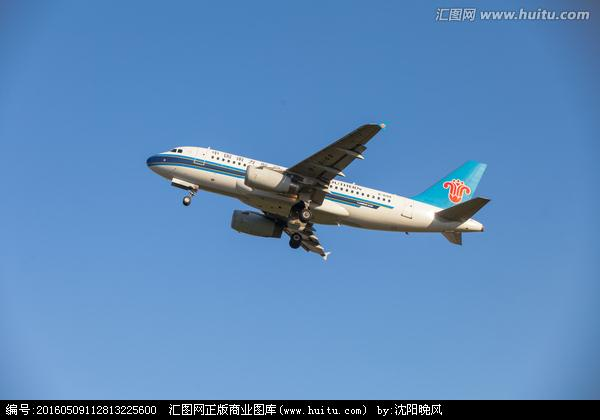airplane: (136, 116, 493, 253)
